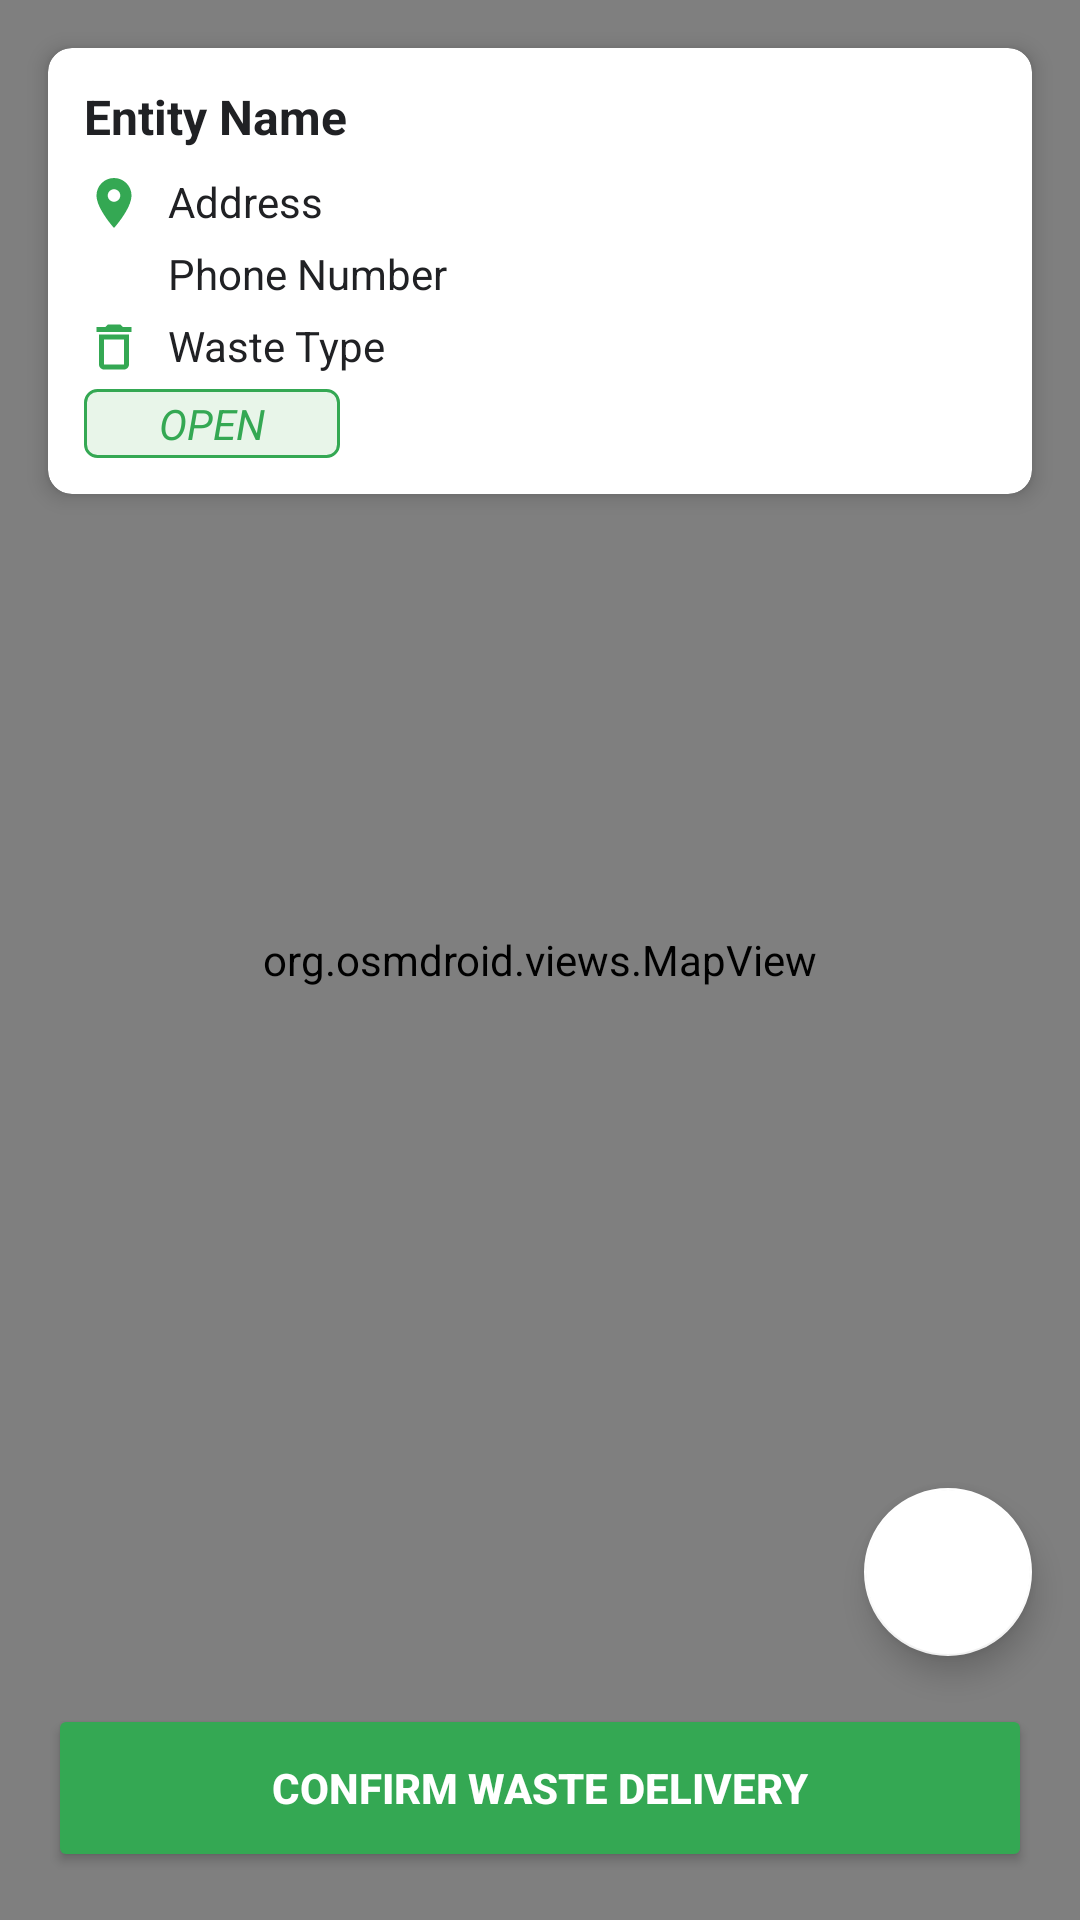

Where to tap for icons on this 1080px×1920px app screen, as [x,y]:
location: [114,203]
